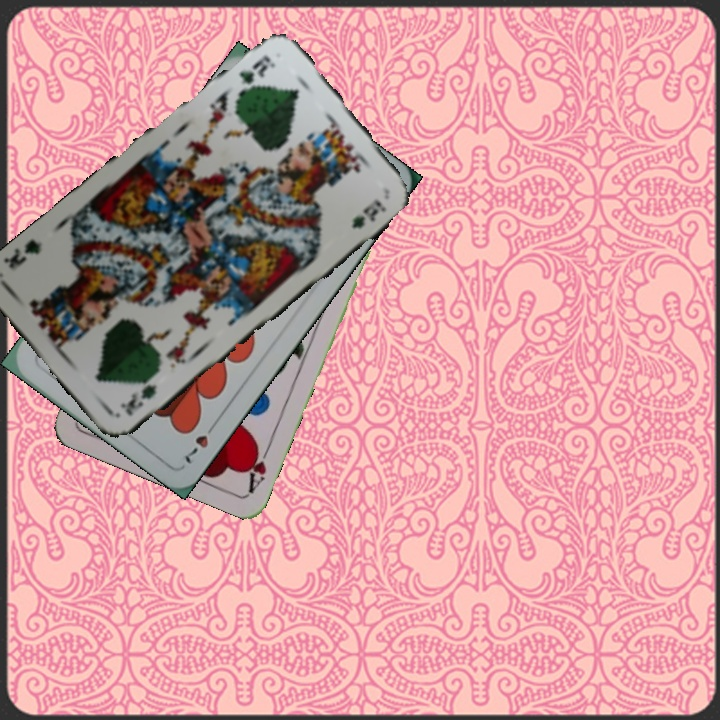GK: (116, 380, 160, 419), (235, 51, 278, 88)
H7: (180, 416, 220, 466)
HA: (241, 438, 275, 495)
